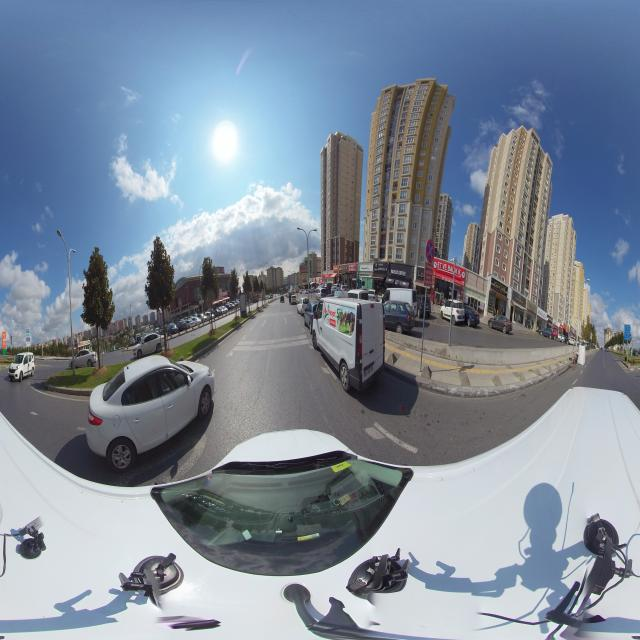SignStore: (433, 259, 454, 277), (491, 277, 508, 297), (512, 290, 526, 307), (391, 266, 407, 277), (374, 262, 387, 273), (537, 307, 547, 321), (527, 300, 537, 314), (417, 268, 424, 279), (547, 314, 553, 324), (358, 266, 373, 270), (349, 264, 357, 271), (339, 266, 348, 271), (553, 319, 558, 327), (323, 274, 330, 278), (334, 266, 338, 271), (560, 324, 563, 330), (320, 278, 322, 281)
